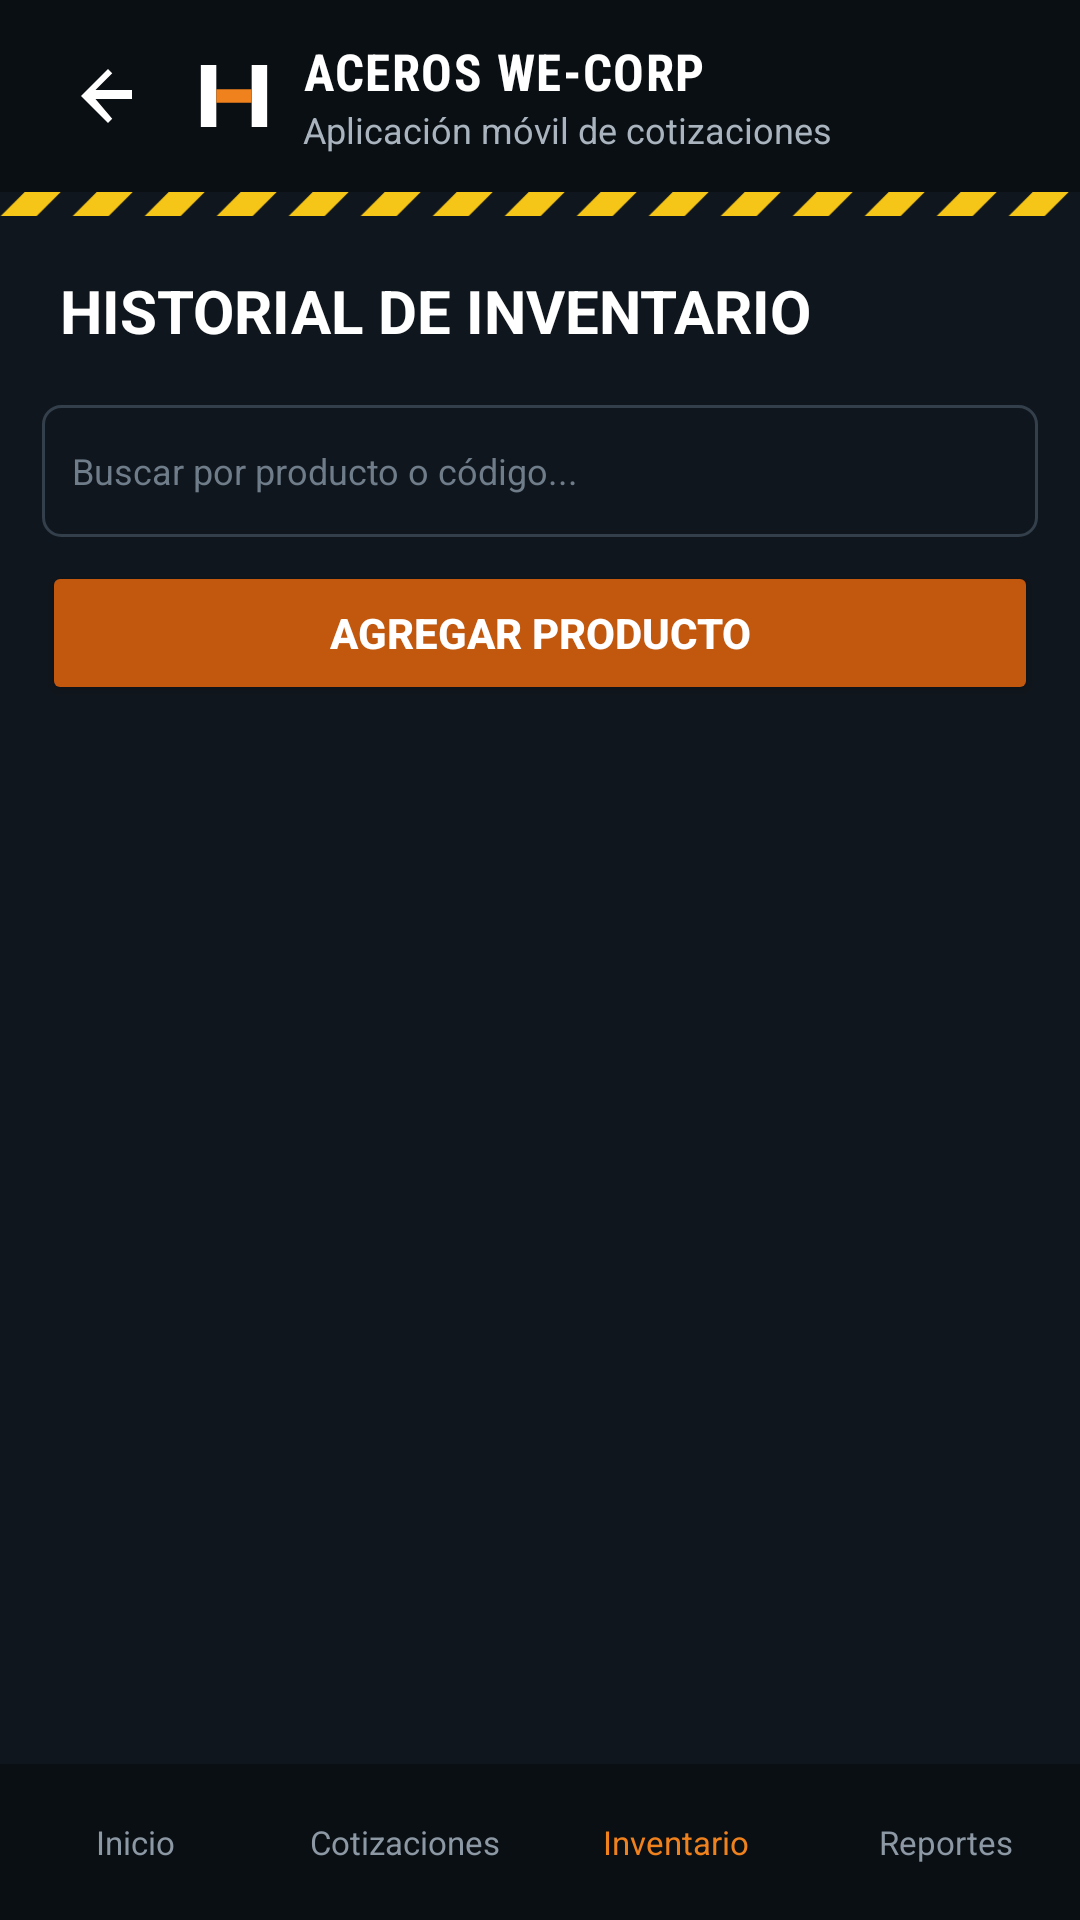

Named icons in this screenshot (1080px x 1920px) and their centers, [x,y]:
Volver: [106,96]
